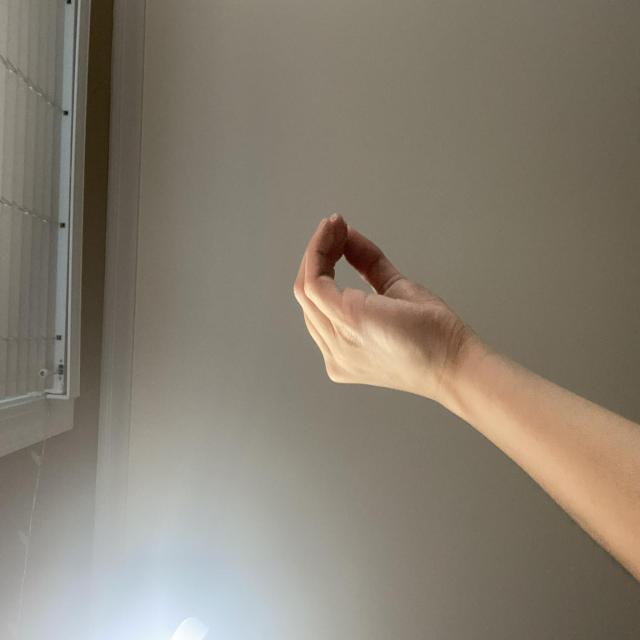O: (174, 384, 327, 615)
